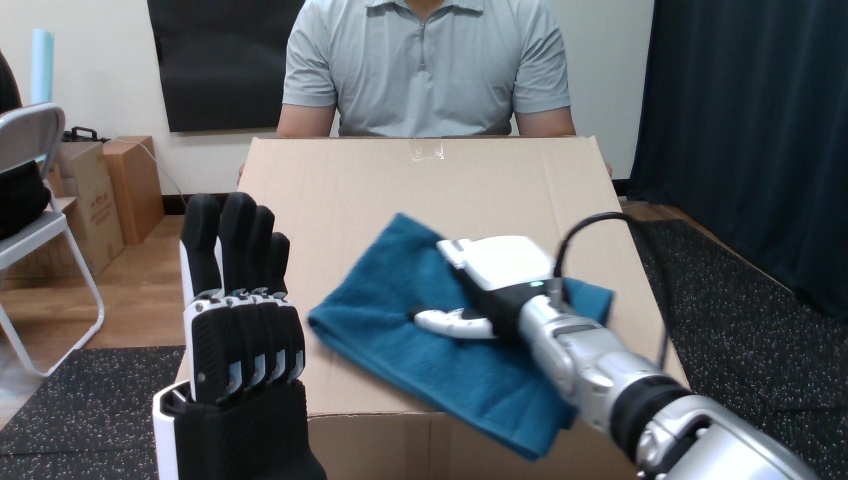left robot hand: (412, 212, 814, 479), (153, 192, 325, 478)
